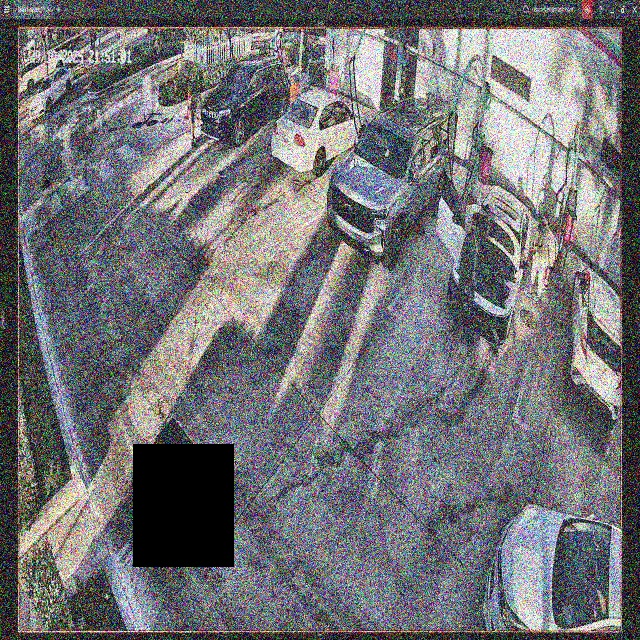Car: (328, 98, 453, 268), (438, 170, 533, 342), (271, 90, 366, 177), (200, 60, 290, 142)
